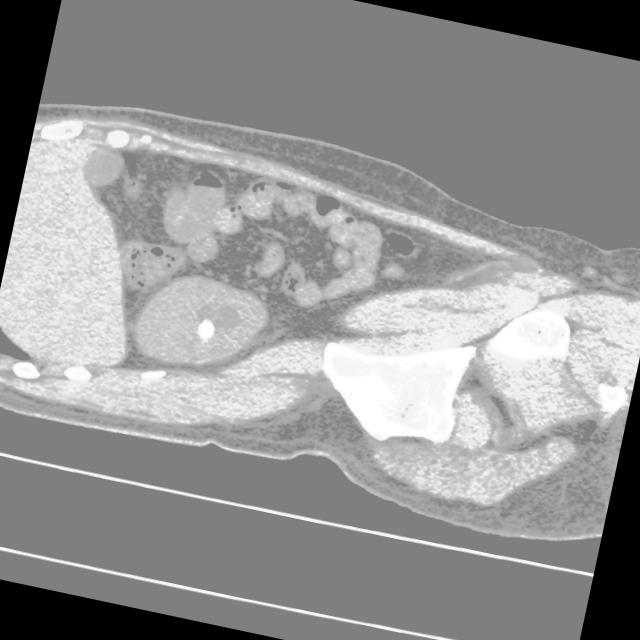STONE: (135, 112, 442, 308)
